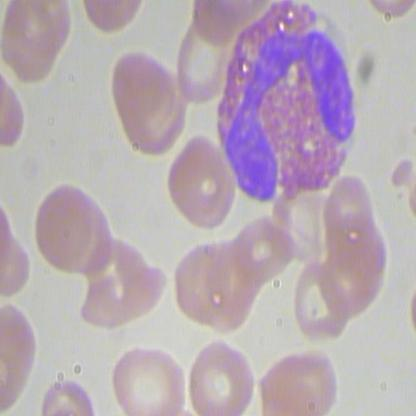RBC: (166, 133, 239, 228), (257, 333, 339, 415), (101, 48, 177, 136), (110, 333, 188, 415), (185, 333, 260, 415), (31, 177, 95, 271), (1, 1, 66, 86), (295, 263, 349, 338)
WBC: (212, 1, 363, 211)
